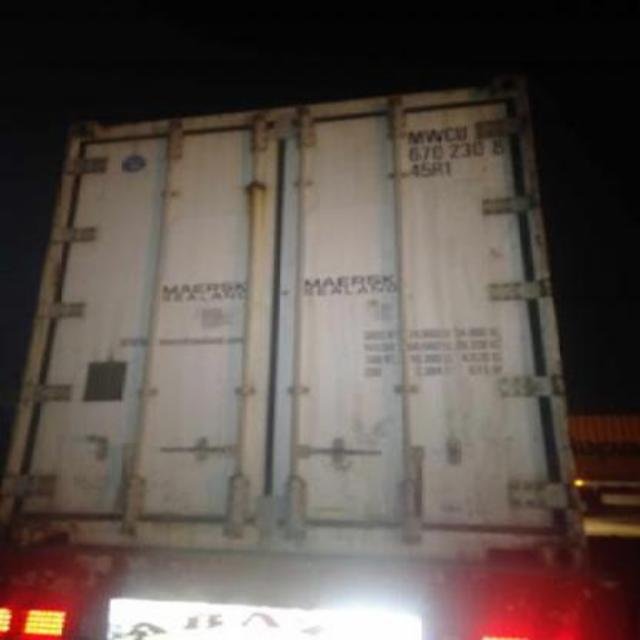0: (470, 139, 486, 157), (432, 140, 444, 160)
2: (446, 144, 459, 160)
3: (461, 143, 474, 161)
6: (404, 146, 422, 162)
7: (418, 144, 432, 164)
8: (494, 140, 506, 160)
C: (442, 122, 456, 142)
M: (402, 125, 424, 146)
U: (454, 124, 470, 144)
W: (422, 127, 442, 143)
